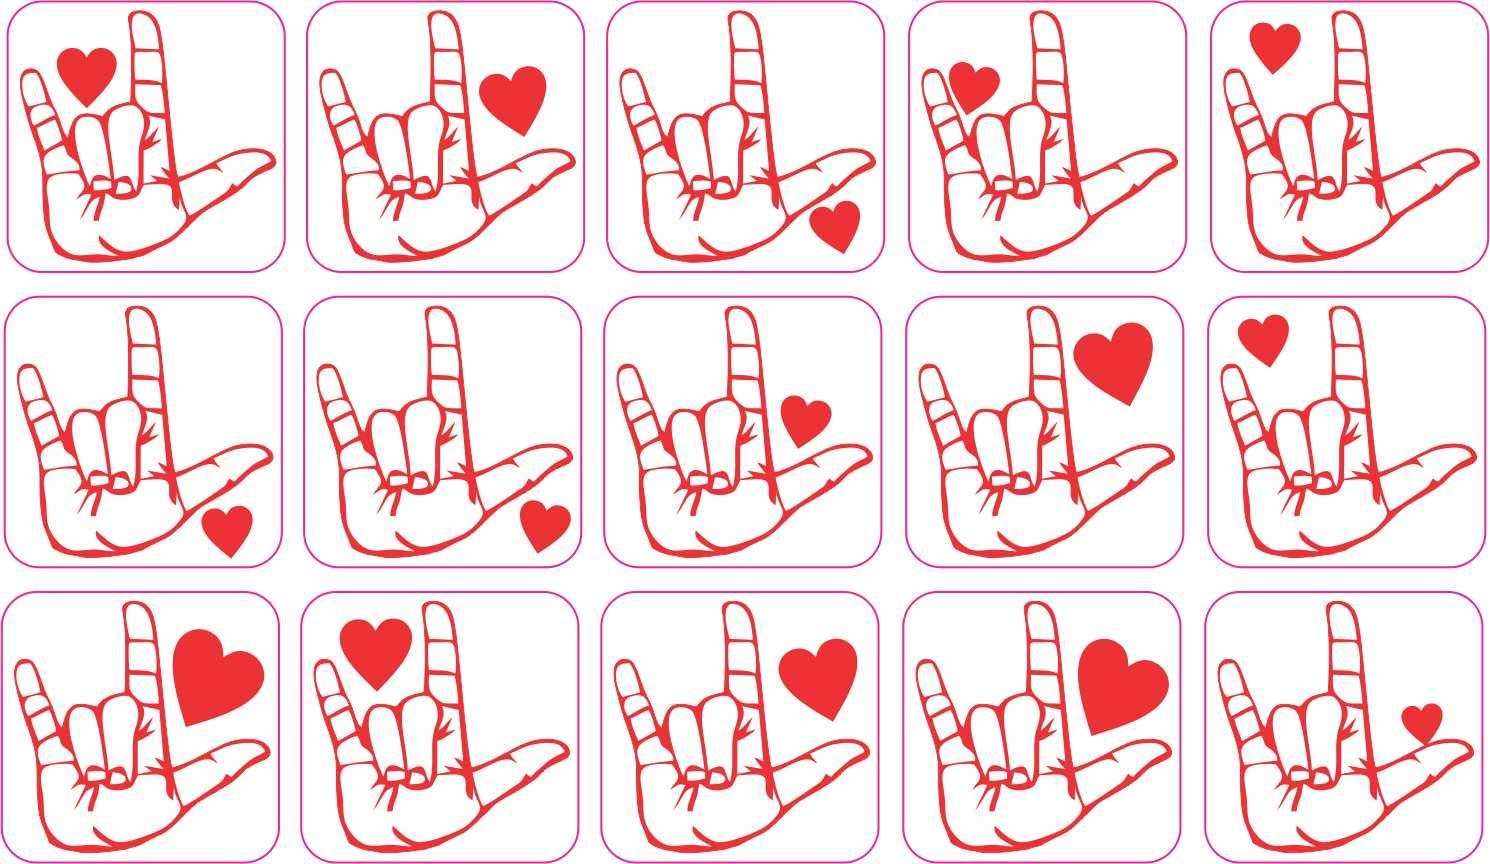Love_you: (312, 302, 577, 564)
